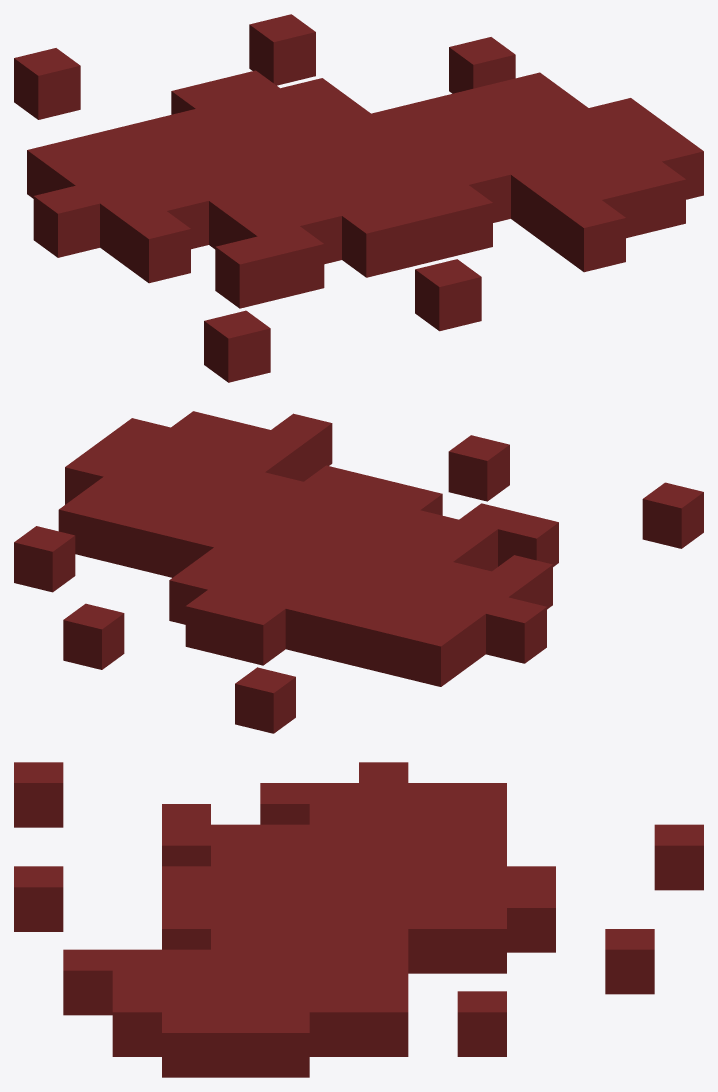
Rendered from blood_02.obj.
3 views of the same model, one above another, from view 1: azimuth 30°, elevation 25°; view 2: azimuth 150°, elevation 25°; view 3: azimuth 270°, elevation 25° (orthographic). The views are drawn at different scales.
Visible parts, largest first — view 1: blood_02; view 2: blood_02; view 3: blood_02.
Part boxes in pixels (<box>): blood_02: <box>14,14,703,382</box>; blood_02: <box>14,411,703,733</box>; blood_02: <box>14,762,703,1077</box>.
Bounding box in the file's own units: 13 × 1 × 14.
1 material, 1 textured.
